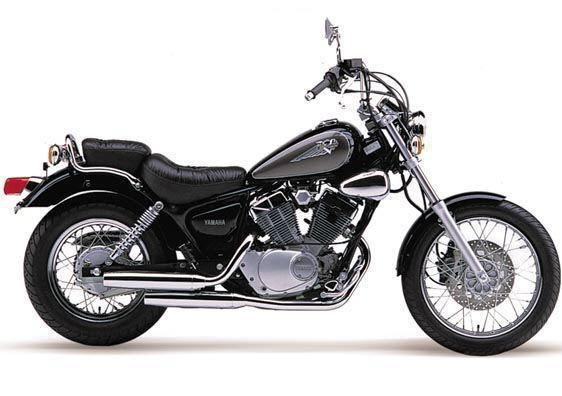motorcycle: (1, 17, 562, 368)
